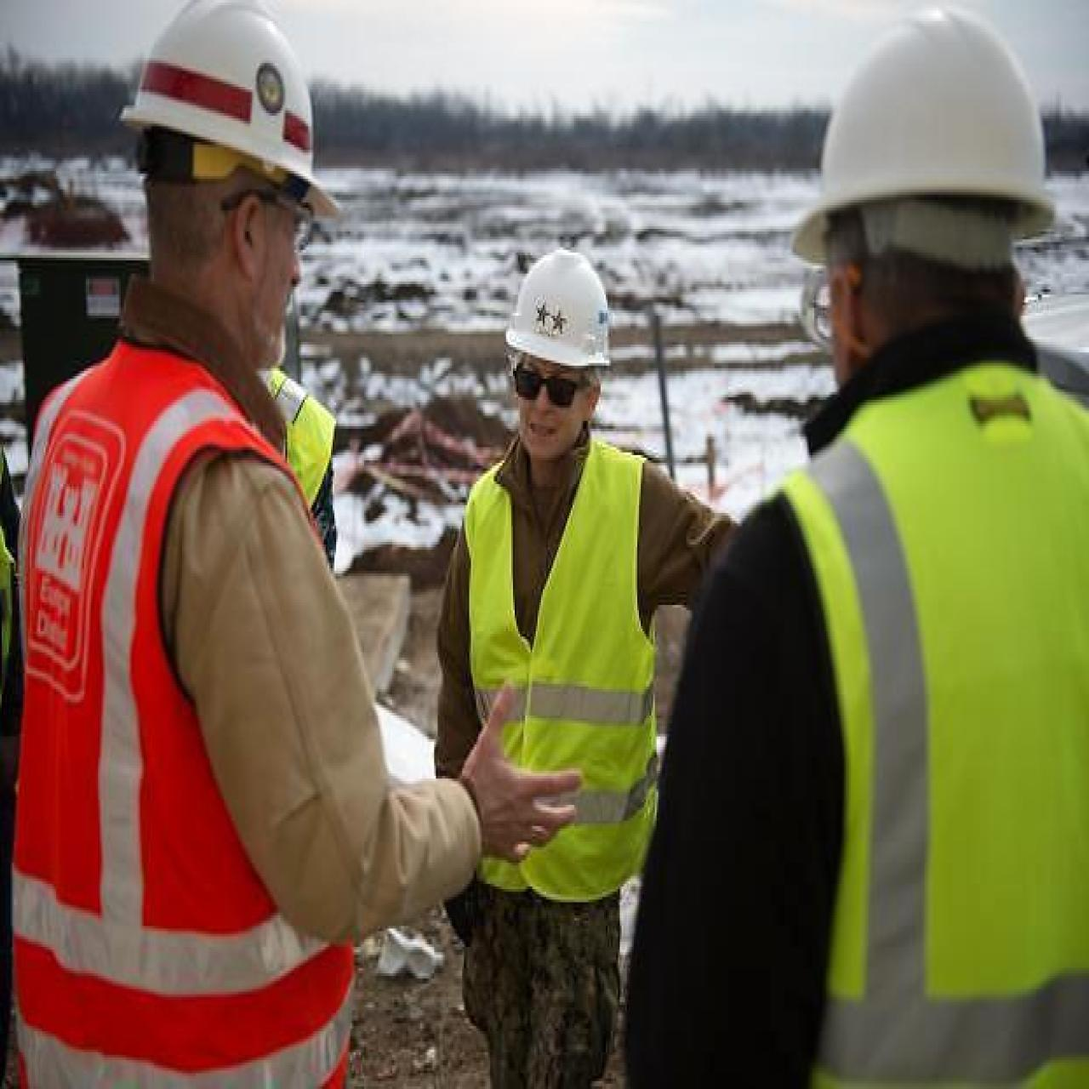Person: (3, 0, 597, 1089), (602, 9, 1089, 1089), (397, 215, 748, 1089)
Safety_Vest: (7, 355, 362, 1057), (750, 373, 1087, 1063), (445, 431, 650, 926), (271, 367, 336, 509)
